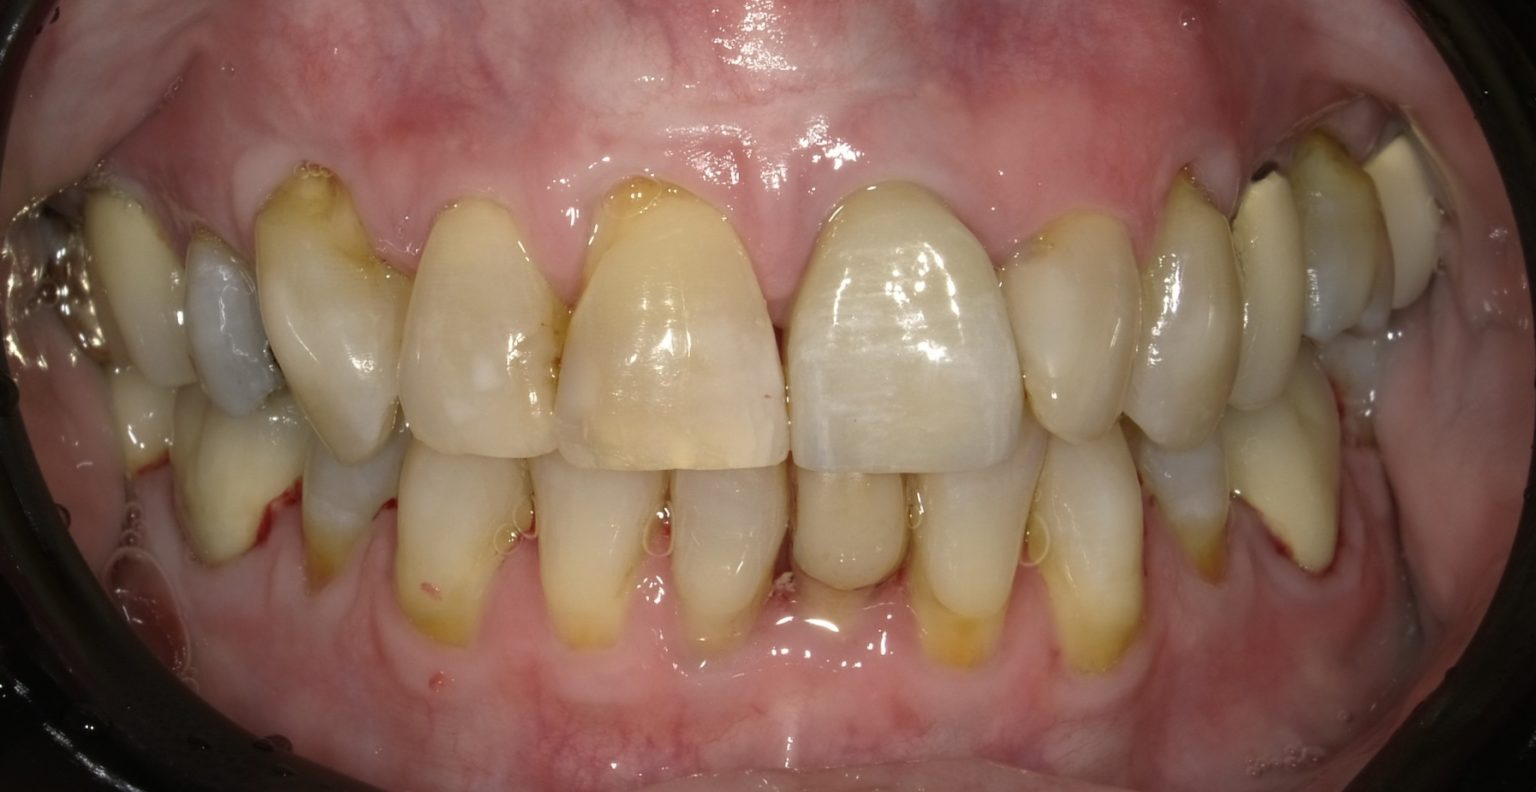LL1BC_healthy: (1146, 445, 1235, 576)
LL2BC_healthy: (1233, 386, 1358, 593)
LLCI_decay: (791, 476, 913, 641)
LLC_healthy: (1030, 423, 1148, 681)
LLLI_healthy: (903, 466, 1031, 668)
LR1BC_healthy: (298, 445, 391, 606)
LR2BC_decay: (171, 409, 298, 574)
LRCI_healthy: (665, 461, 790, 643)
LRC_healthy: (391, 448, 536, 651)
LRLI_healthy: (530, 464, 668, 656)
UL1BC_healthy: (1238, 171, 1305, 423)
UL1M_healthy: (1380, 141, 1453, 308)
UL2BC_decay: (1290, 133, 1393, 339)
ULCI_healthy: (786, 181, 1026, 479)
ULC_healthy: (1143, 184, 1240, 453)
ULLI_healthy: (1005, 208, 1146, 441)
UR1BC_decay: (183, 239, 276, 424)
UR2BC_healthy: (78, 194, 200, 403)
URCI_healthy: (551, 171, 788, 483)
URC_healthy: (245, 173, 408, 466)
URLI_healthy: (395, 196, 566, 468)
